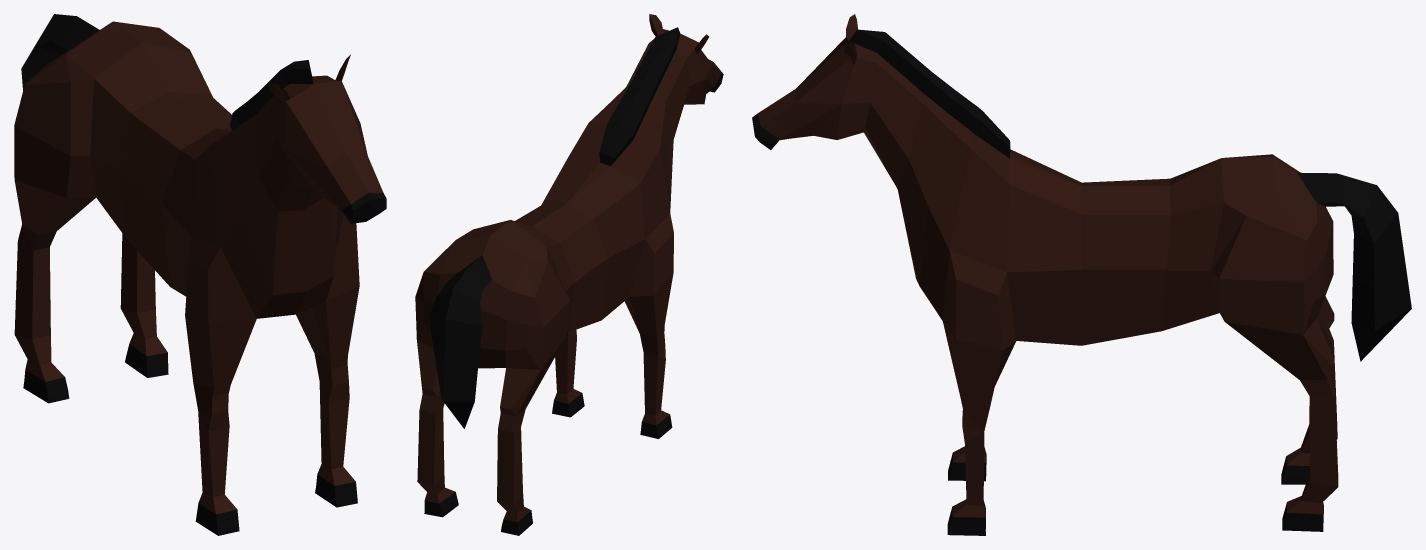
File: Horse_000002.obj
3 renders of one model, left to right at view 1: azimuth 30°, elevation 25°; view 2: azimuth 150°, elevation 25°; view 3: azimuth 270°, elevation 25°, orthographic. The views are drawn at different scales.
Parts seen in each view (by area): view 1: Horse_Cylinder; view 2: Horse_Cylinder; view 3: Horse_Cylinder.
Part boxes in pixels (box(x1,y1,x2,y2)): Horse_Cylinder: box(14, 14, 386, 535); Horse_Cylinder: box(415, 14, 723, 535); Horse_Cylinder: box(752, 14, 1411, 535).
Size of the model in its own units: 2.56 by 7.19 by 9.21.
